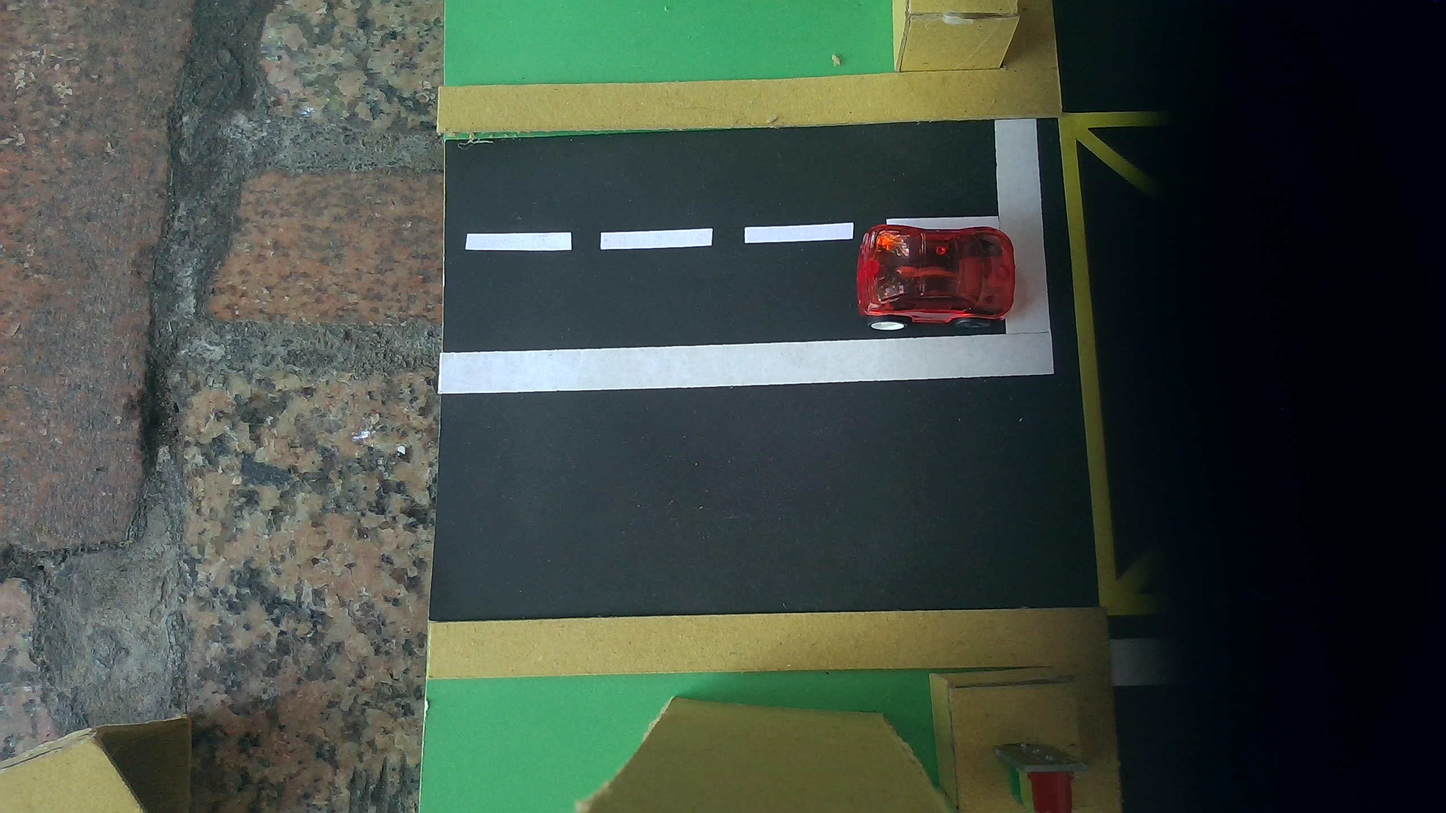Mobil merah: (856, 224, 1015, 329)
